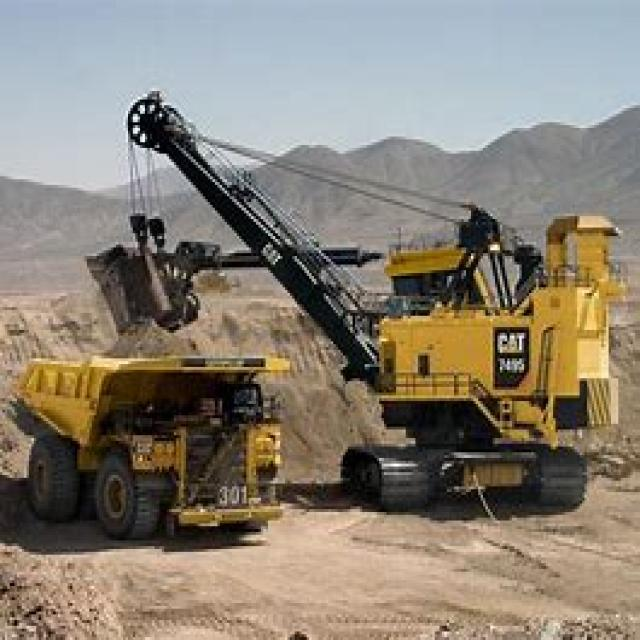dump_truck: (0, 330, 307, 538)
